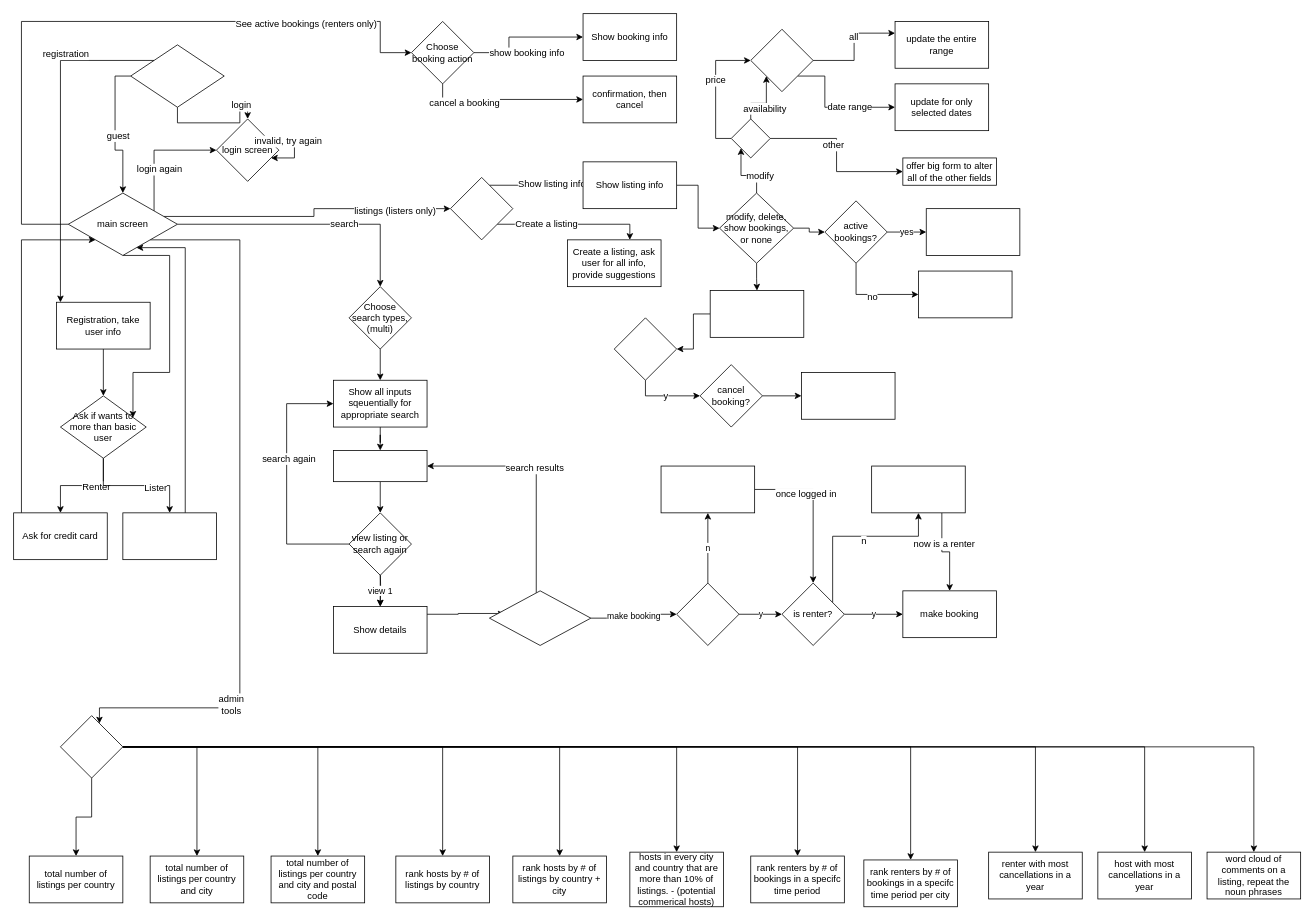
The diagram is 1314 pixels wide and 921 high, and some of its shapes have lost their labels. Each missing label, with the box of its shape:
Ask for paypal details: (122, 512, 216, 560)
cancel booking, open up calendar entries: (801, 372, 895, 419)
choose a report: (60, 715, 123, 778)
choose booking: (613, 317, 677, 380)
choose dates: (750, 28, 813, 92)
Choose listing action: (450, 177, 513, 240)
delete listing, and calendar entries: (918, 270, 1012, 318)
do nothing / mark unavailable for all listings that have no bookingId: (925, 208, 1020, 255)
go to renter registration screen: (871, 465, 965, 513)
initial screen: (130, 44, 224, 107)
is logged in?: (676, 582, 739, 645)
Make a booking or return to search results: (489, 590, 591, 645)
return to login screen: (660, 465, 755, 513)
show all bookings: (709, 290, 804, 337)
Show general details only of multiple listings: (333, 450, 427, 482)
what to modify?: (730, 118, 770, 158)
